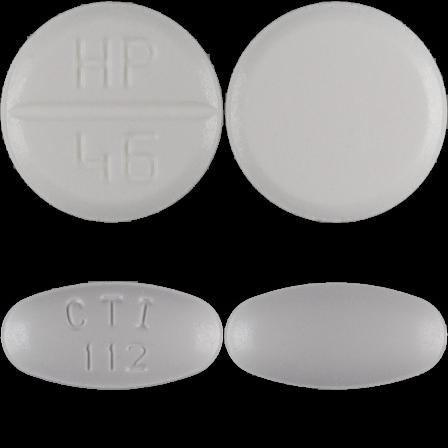42254-132: (0, 0, 224, 224)
